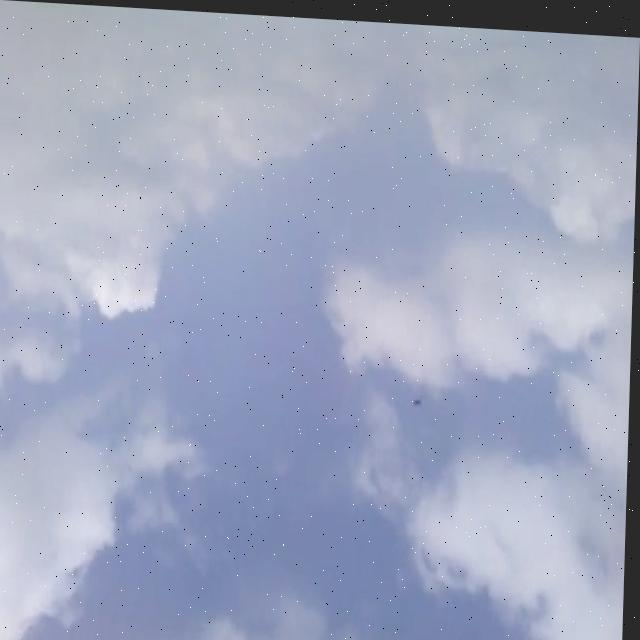drone: (415, 389, 427, 407)
